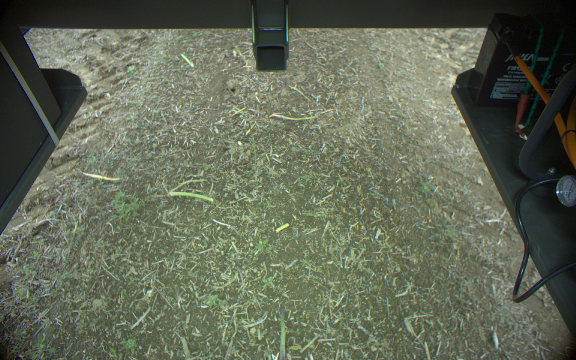aspa: (276, 304, 289, 360), (168, 190, 215, 204)
